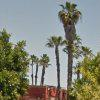Palm tree: (23, 30, 64, 85)
